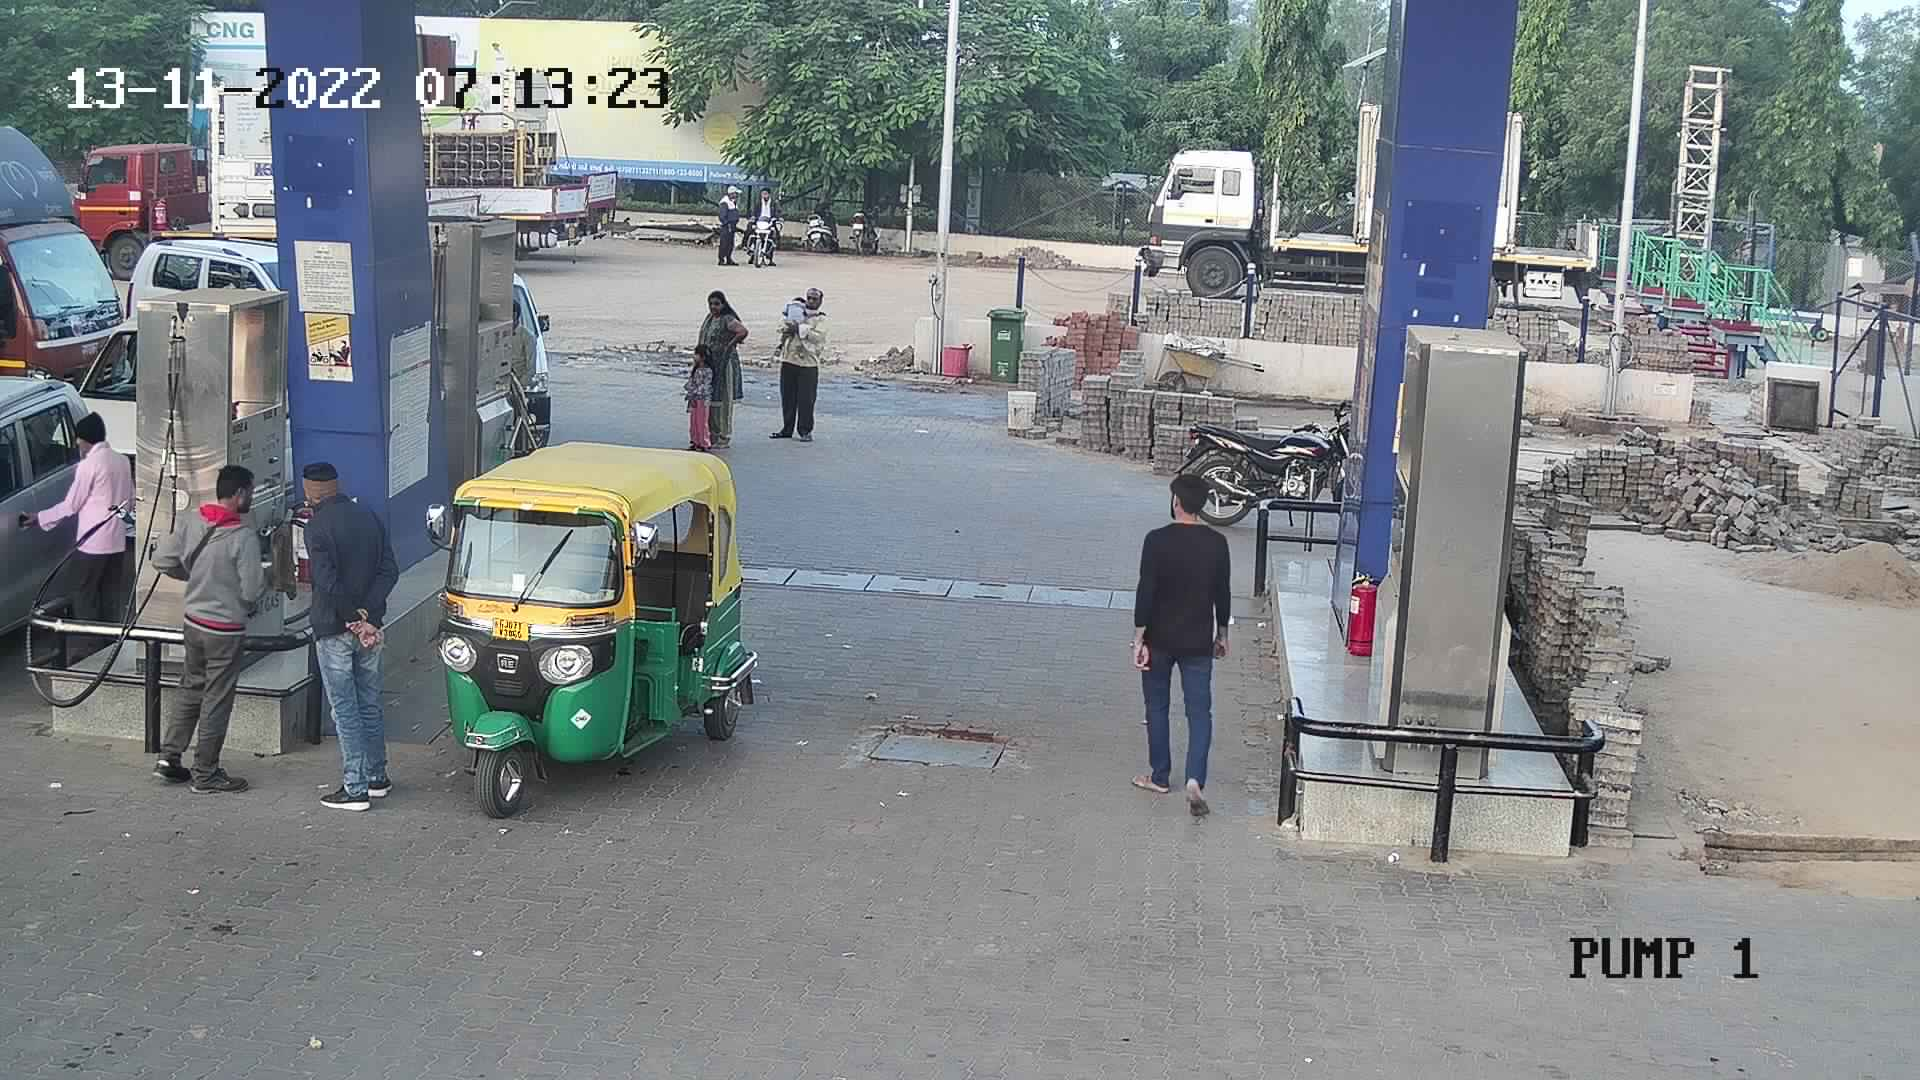Auto: (413, 434, 760, 824)
Bike: (1168, 398, 1352, 533), (737, 179, 786, 266), (845, 185, 889, 260), (799, 187, 844, 252)
Car: (0, 357, 105, 680), (61, 301, 142, 537), (117, 227, 287, 330), (498, 262, 560, 462)
HMV: (407, 26, 634, 264), (1131, 98, 1389, 305), (63, 76, 281, 284), (0, 109, 128, 398)
Others: (146, 460, 273, 798)
